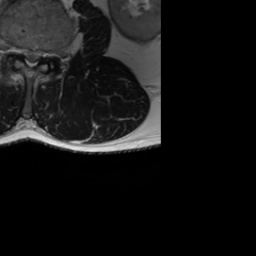CCS_normal: (28, 43, 34, 72)
LFS_stenosis: (44, 43, 51, 63)
LLS_stenosis: (34, 44, 43, 65)
RFS_normal: (12, 40, 21, 60)
RLS_stenosis: (21, 42, 28, 65)
